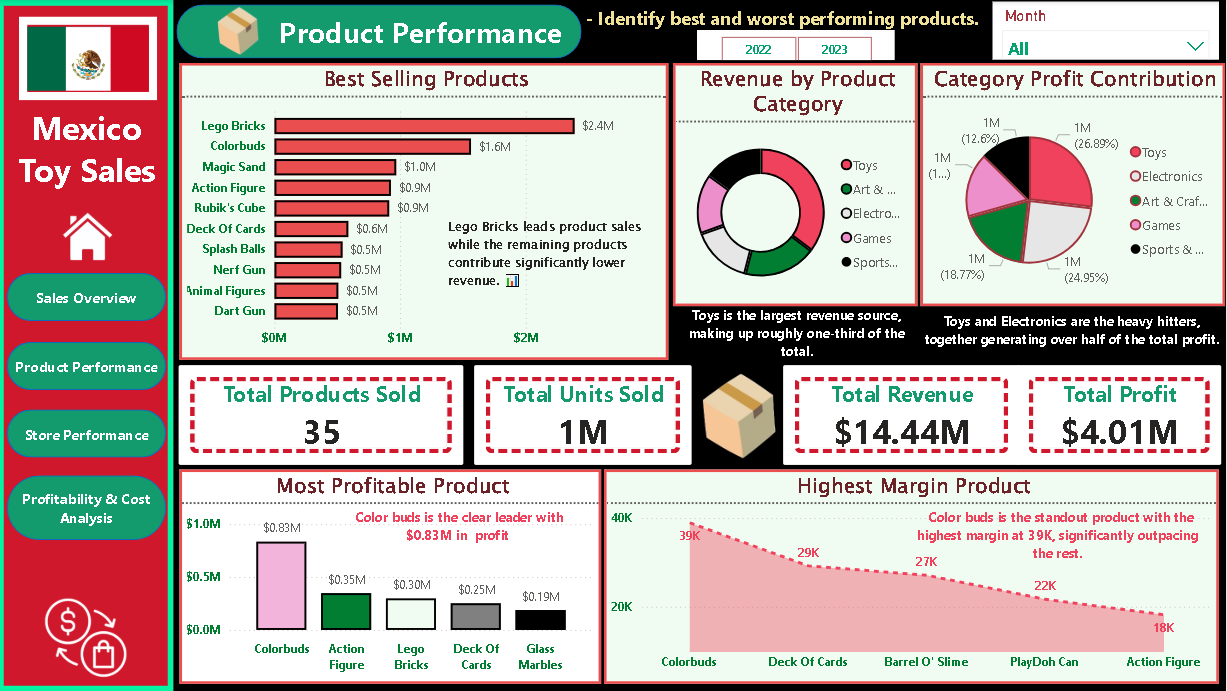

The page's visual inventory and layout, read from the dashboard file:
{"tool":"powerbi","page":{"name":"Product Performance","canvas":[1280,720],"ordinal":2},"visuals":[{"type":"shape","box":[0,0,182.9,720.5],"z":0},{"type":"image","box":[21.9,17.2,143.8,87.5],"z":1000},{"type":"shape","box":[6.3,104.7,171.9,98.5],"z":2000},{"type":"shape","box":[186,4.7,422,56.3],"z":3000},{"type":"image","box":[25,615.8,132.9,96.9],"z":4000},{"type":"image","box":[211,4.7,82.8,57.8],"z":5000},{"type":"textbox","box":[608,0,512.7,65.6],"z":6000},{"type":"clusteredBarChart","title":"Best Selling Products","fields":{"Category":["final (2).product_name"],"Y":["final (2).Total_Revenue"]},"box":[189.1,65.6,509.5,309.5],"z":7000},{"type":"donutChart","title":"Revenue by Product Category","fields":{"Category":["final (2).product_category"],"Y":["final (2).Total_Revenue"]},"box":[703.3,65.6,254.8,253.2],"z":8000},{"type":"areaChart","title":"Highest Margin Product","fields":{"Category":["final (2).product_name"],"Y":["Sum(final (2).profit_margin_%)"]},"box":[631.4,489.2,640.8,223.5],"z":9000},{"type":"pieChart","title":"Category Profit Contribution","fields":{"Category":["final (2).product_category"],"Y":["Sum(final (2).profit)"]},"box":[961.2,65.6,317.3,253.2],"z":10000},{"type":"columnChart","title":"Most Profitable Product","fields":{"Category":["final (2).product_name"],"Y":["final (2).Total_Profit"]},"box":[189.1,489.2,439.2,223.5],"z":11000},{"type":"cardVisual","fields":{"Data":["final (2).Total Products Sold"]},"box":[182.9,375.1,307.9,114.1],"z":12000},{"type":"cardVisual","fields":{"Data":["final (2).Total Units Sold"]},"box":[490.8,375.1,237.6,114.1],"z":13000},{"type":"cardVisual","fields":{"Data":["final (2).Total_Profit"]},"box":[1056.6,375.1,223.5,114.1],"z":14000},{"type":"cardVisual","fields":{"Data":["final (2).Total_Revenue"]},"box":[812.8,375.1,257.9,114.1],"z":15000},{"type":"textbox","box":[464.2,220.4,250.1,92.2],"z":16000},{"type":"slicer","fields":{"Values":["final (2).month_name"]},"box":[1036.3,1.6,236,61],"z":17000},{"type":"slicer","fields":{"Values":["final (2).sale_year"]},"box":[728.4,31.3,206.3,31.3],"z":18000},{"type":"textbox","box":[343.9,523.6,270.4,92.2],"z":19000},{"type":"textbox","box":[703.3,312.6,257.9,73.5],"z":20000},{"type":"textbox","box":[958.1,318.8,322,73.5],"z":21000},{"type":"textbox","box":[951.9,523.6,304.8,78.1],"z":22000},{"type":"shape","box":[9.4,284.5,165.7,50],"z":23000},{"type":"shape","box":[9.4,356.4,165.7,50],"z":24000},{"type":"actionButton","box":[25,289.2,132.9,40.6],"z":25000},{"type":"image","box":[711.2,384.5,129.7,103.2],"z":26000},{"type":"shape","box":[9.4,426.7,165.7,50],"z":27000},{"type":"actionButton","box":[25,431.4,136,40.6],"z":28000},{"type":"shape","box":[9.4,495.5,165.7,67.2],"z":29000},{"type":"actionButton","box":[21.9,498.6,143.8,62.5],"z":30000},{"type":"image","box":[59.4,207.9,68.8,81.3],"z":31000}]}

Visuals, with their boxes in screenshot pixels (x1, y1, x2, y2), scaled from the page's 1280x720 canvas onto the 1227x691 screenshot:
shape: (0, 0, 175, 690)
image: (21, 17, 159, 100)
shape: (6, 100, 171, 195)
shape: (178, 5, 583, 59)
image: (24, 591, 151, 684)
image: (202, 5, 282, 60)
textbox: (583, 0, 1074, 63)
"Best Selling Products" clusteredBarChart: (181, 63, 670, 360)
"Revenue by Product Category" donutChart: (674, 63, 918, 306)
"Highest Margin Product" areaChart: (605, 469, 1220, 684)
"Category Profit Contribution" pieChart: (921, 63, 1226, 306)
"Most Profitable Product" columnChart: (181, 469, 602, 684)
cardVisual - final (2).Total Products Sold: (175, 360, 470, 469)
cardVisual - final (2).Total Units Sold: (470, 360, 698, 469)
cardVisual - final (2).Total_Profit: (1013, 360, 1226, 469)
cardVisual - final (2).Total_Revenue: (779, 360, 1026, 469)
textbox: (445, 212, 685, 300)
slicer - final (2).month_name: (993, 2, 1220, 60)
slicer - final (2).sale_year: (698, 30, 896, 60)
textbox: (330, 503, 589, 591)
textbox: (674, 300, 921, 371)
textbox: (918, 306, 1226, 376)
textbox: (912, 503, 1205, 577)
shape: (9, 273, 168, 321)
shape: (9, 342, 168, 390)
actionButton: (24, 278, 151, 317)
image: (682, 369, 806, 468)
shape: (9, 410, 168, 457)
actionButton: (24, 414, 154, 453)
shape: (9, 476, 168, 540)
actionButton: (21, 479, 159, 539)
image: (57, 200, 123, 278)
